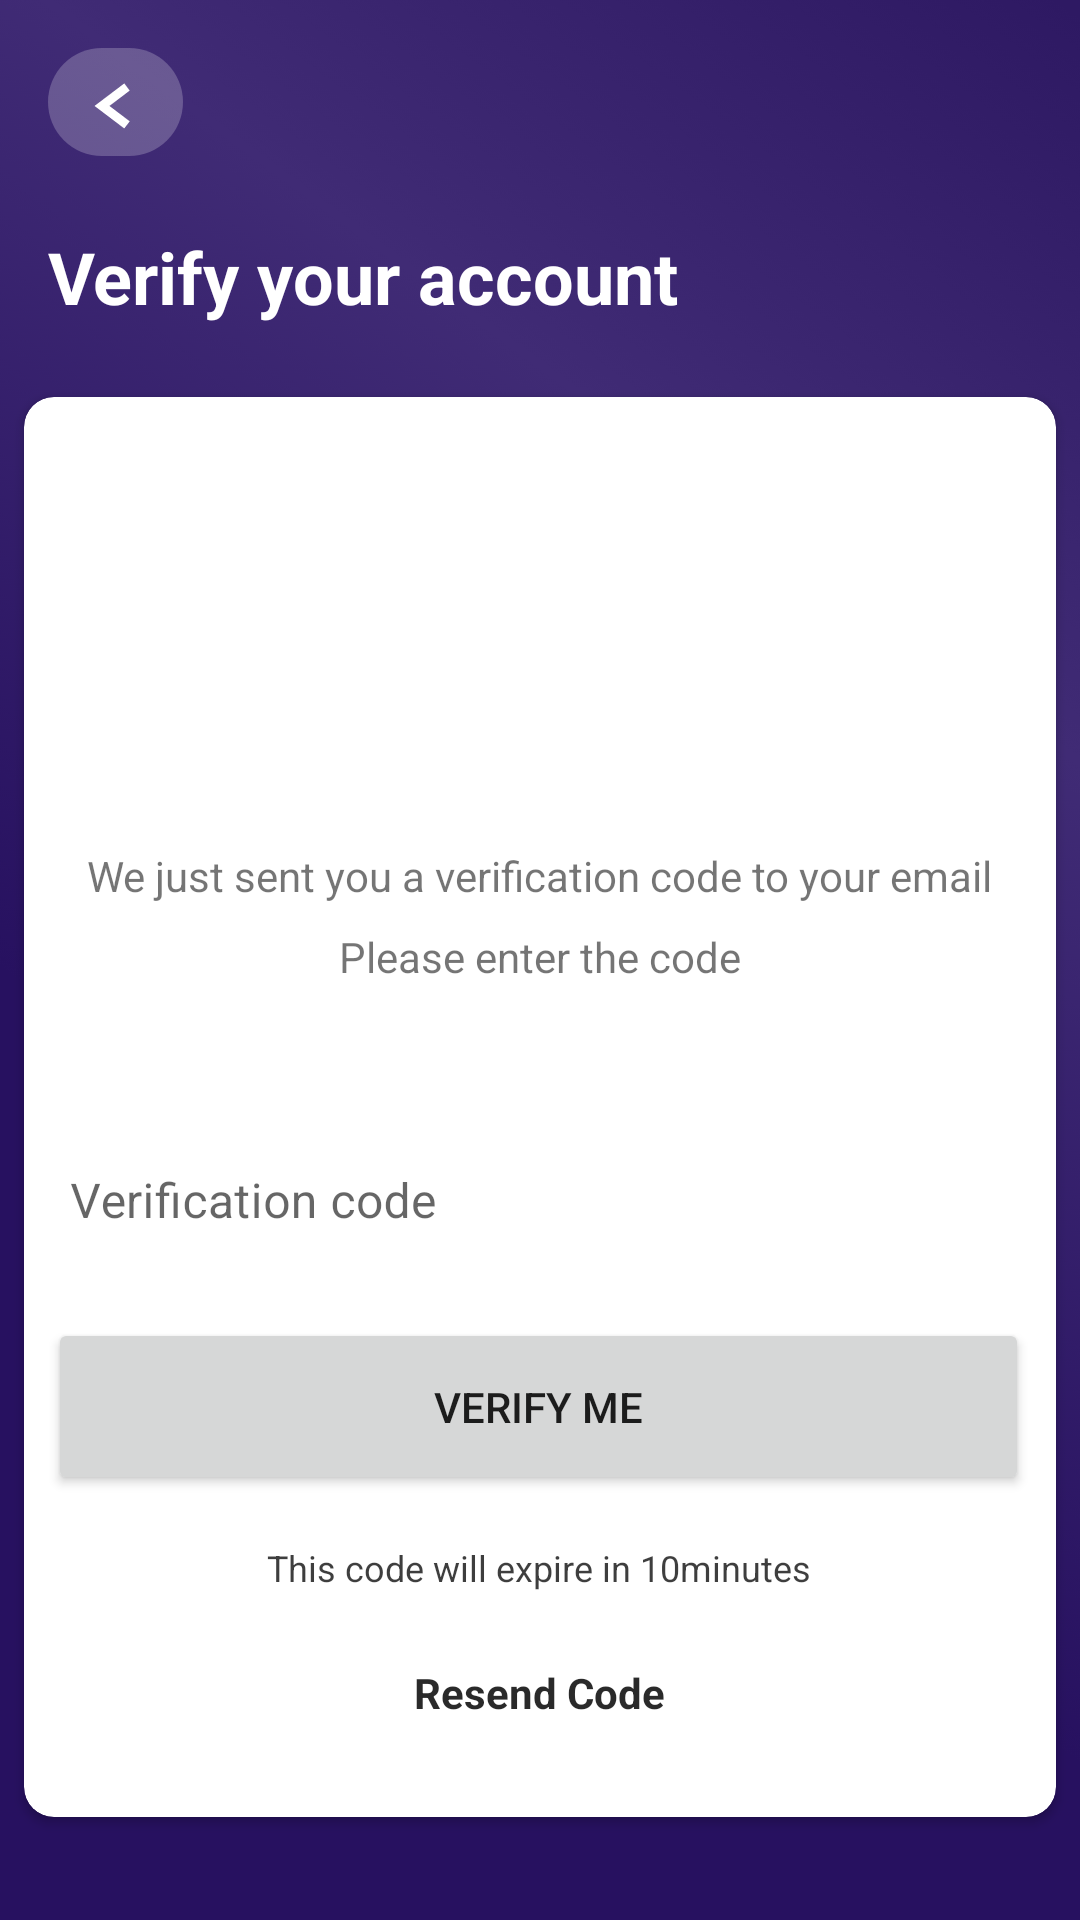

Icons on this 1080w x 1920h Android screen, each with its box as (x1, y1, x2, y2):
back: (48, 48, 183, 156)
